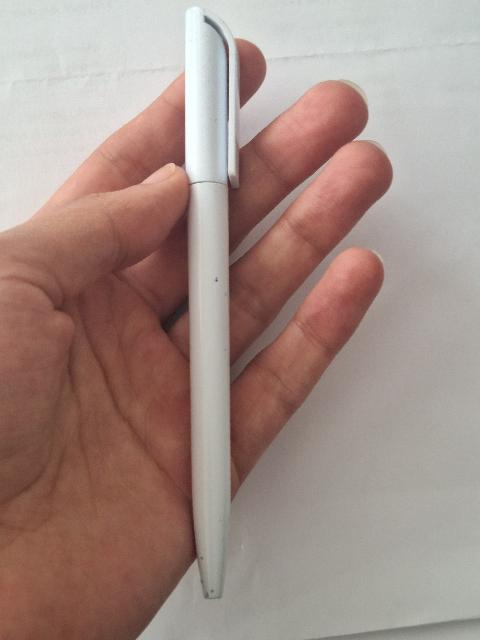writing_tool: (177, 1, 245, 602)
